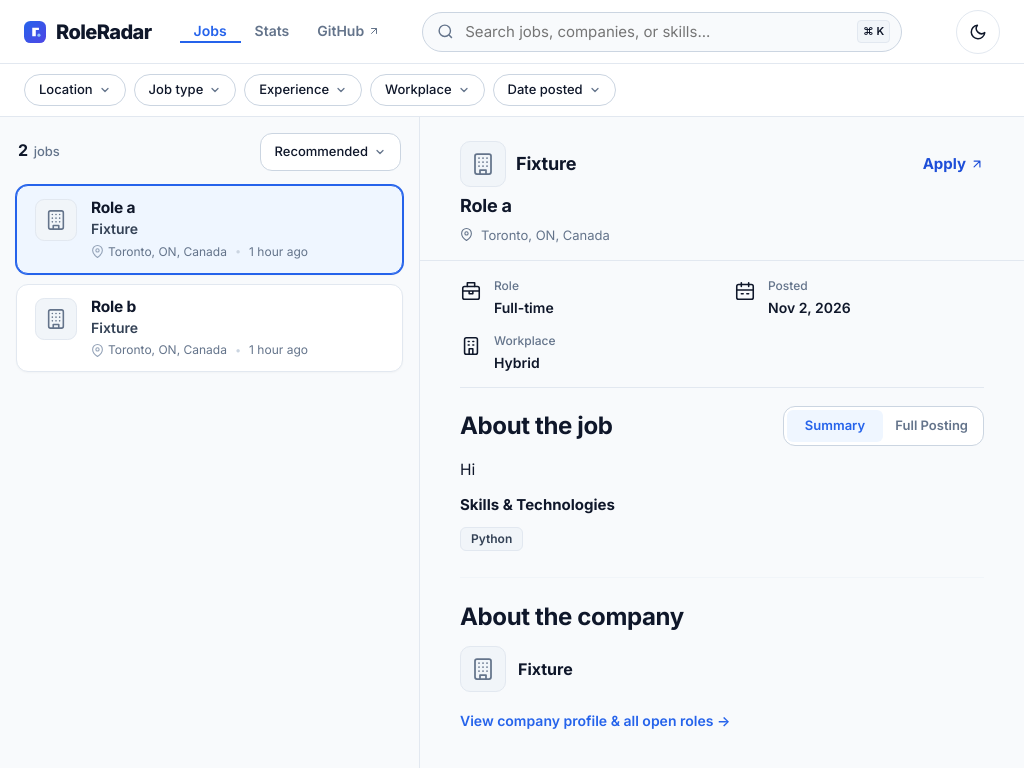
Scenario: resizing from desktop to a phone › keeps a job the reader chose
The width and height of the screenshot is (1024, 768).
Click the button with aria-label "View details for" at [114, 306], box [91, 297, 136, 316]
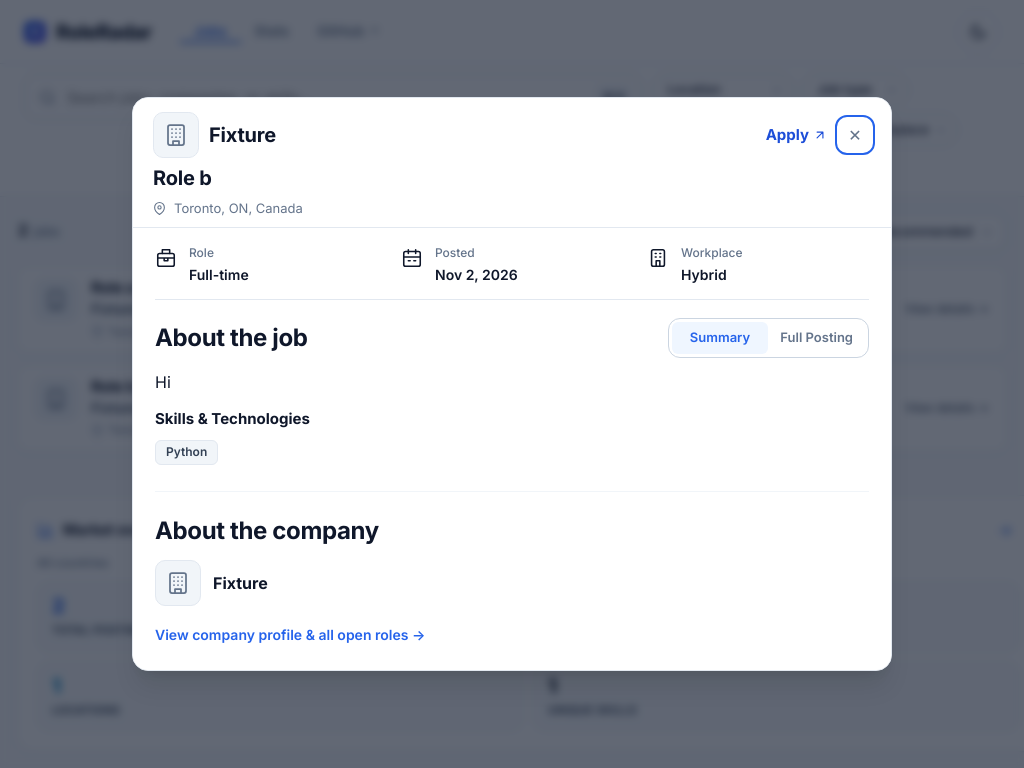
Expected: the dialog is shown, [132, 97, 892, 671]
